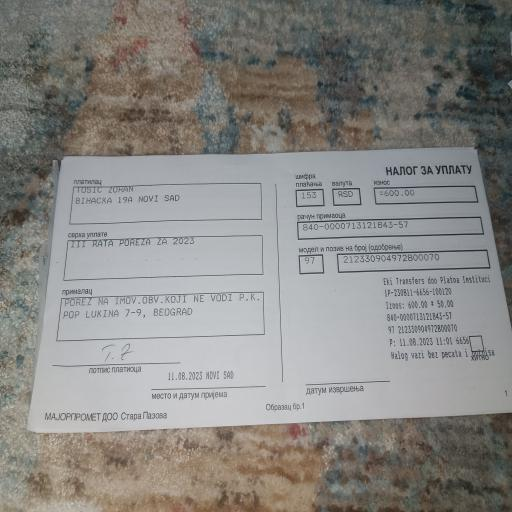svrha_uplate: (64, 228, 260, 279)
uplatnica: (290, 170, 495, 281)
